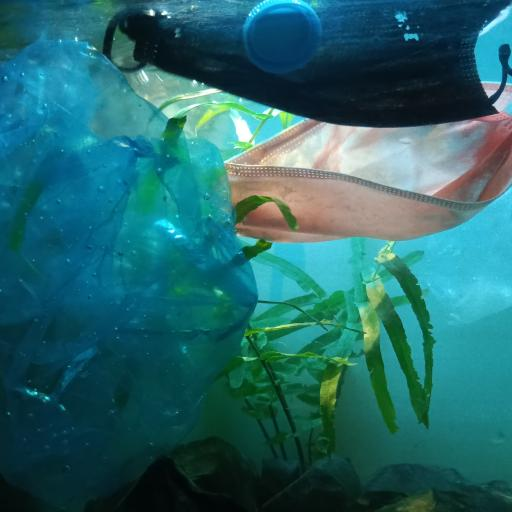bottle_cap: (244, 0, 322, 74)
mask: (102, 0, 512, 129), (222, 82, 512, 243)
plastic_bag: (0, 36, 259, 512)
